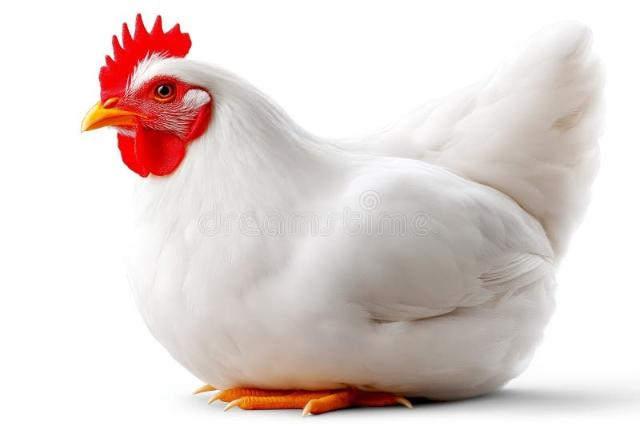Chicken: (82, 12, 603, 418)
